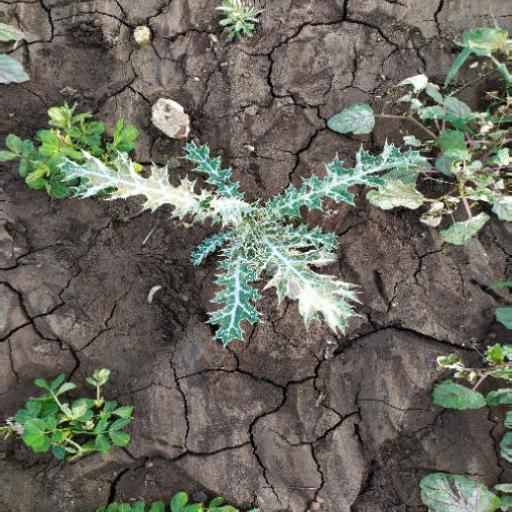weed: (9, 27, 512, 353), (7, 369, 144, 483)
